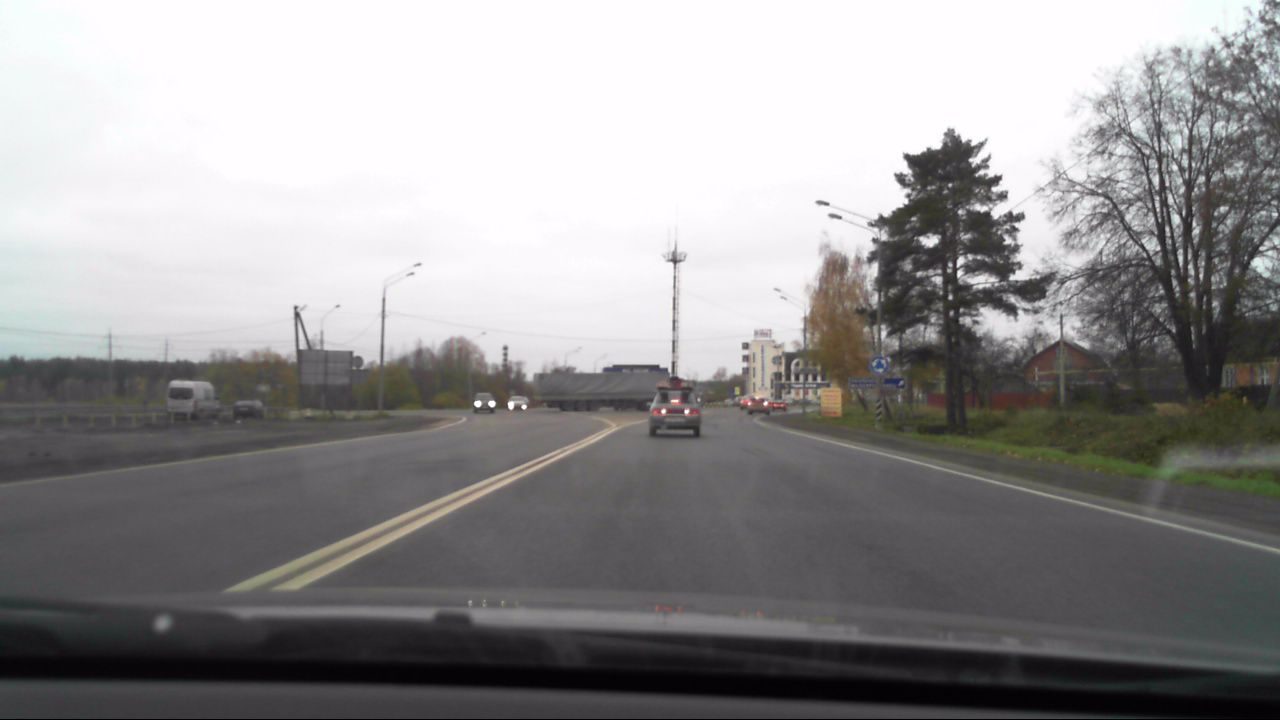Round-About: (867, 352, 894, 378)
